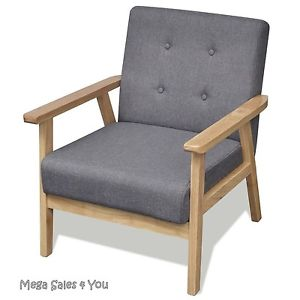chairs: (24, 5, 274, 296)
